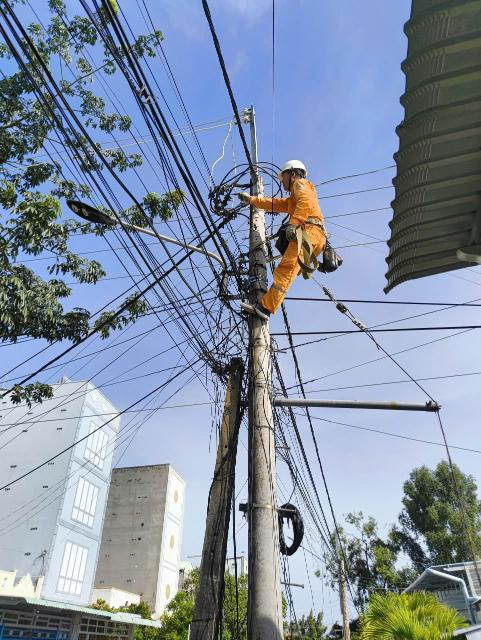gloves: (234, 187, 256, 210), (278, 222, 305, 238)
harness: (302, 210, 338, 239)
helmet: (274, 155, 313, 178)
shoes: (235, 297, 289, 334)
